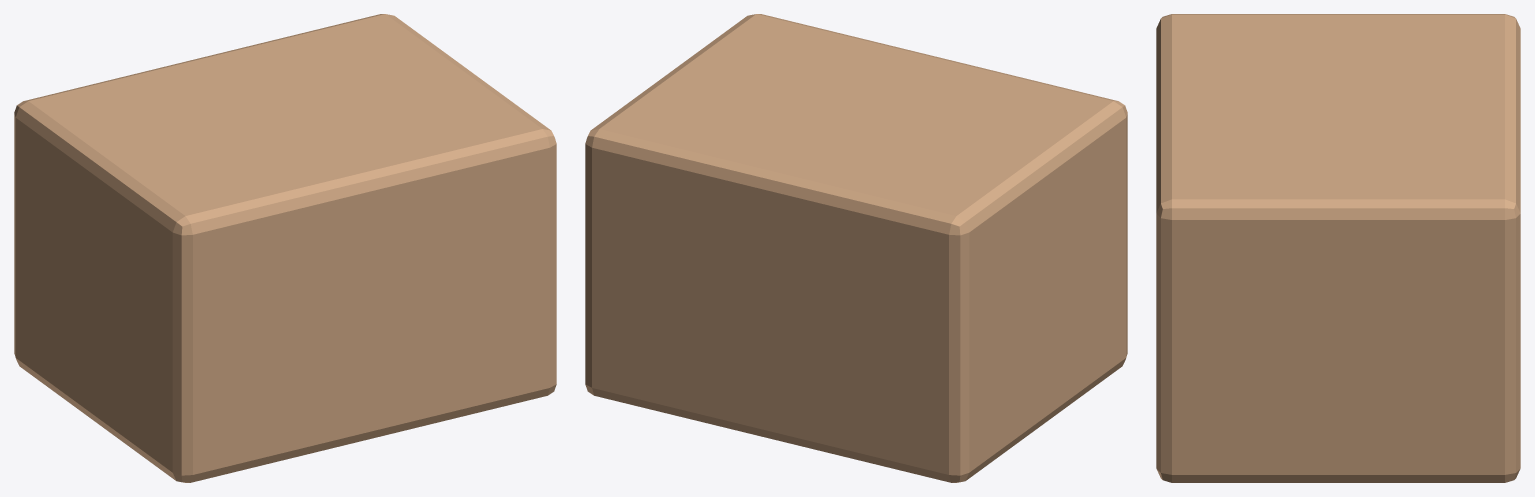
3 views of the same model, side by side, from view 1: azimuth 30°, elevation 25°; view 2: azimuth 150°, elevation 25°; view 3: azimuth 270°, elevation 25° (orthographic). The views are drawn at different scales.
Visible parts, largest first — view 1: box; view 2: box; view 3: box.
Boxes of the visible parts, x1,y1,x2,y2 form: box: (14, 14, 556, 482); box: (585, 14, 1127, 482); box: (1156, 14, 1520, 482).
Bounding box in the file's own units: 0.45 × 0.3 × 0.35.
